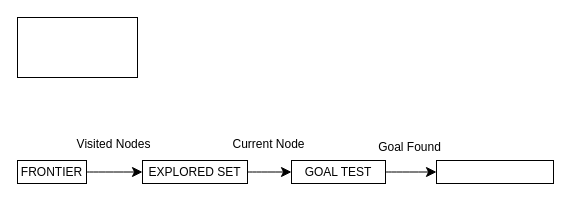
The diagram is 571 pixels wide and 201 high, and some of its shapes have lost their labels. The centre of each missing label's shape, as x and y in pixels:
PATH RECONSTRUCTOR: pixel 495 172
SEARCH ENGINE: pixel 77 47
